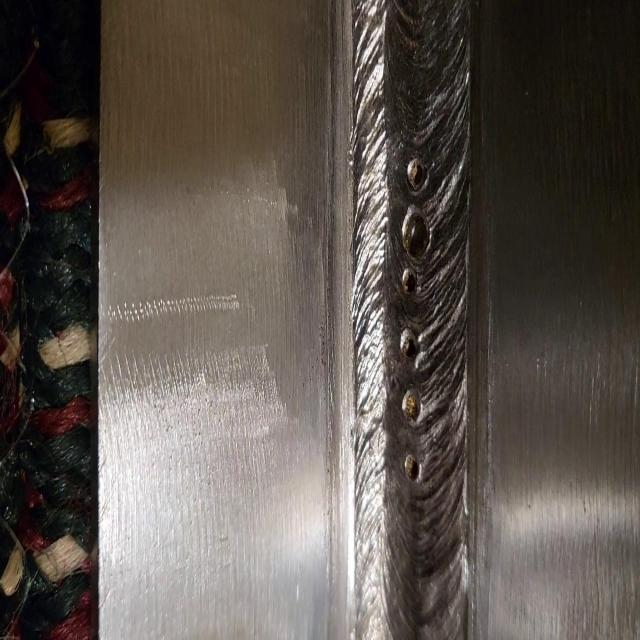Welding Line: (351, 4, 466, 640)
Workpiece: (99, 3, 640, 640)
porosity: (397, 157, 431, 483)
